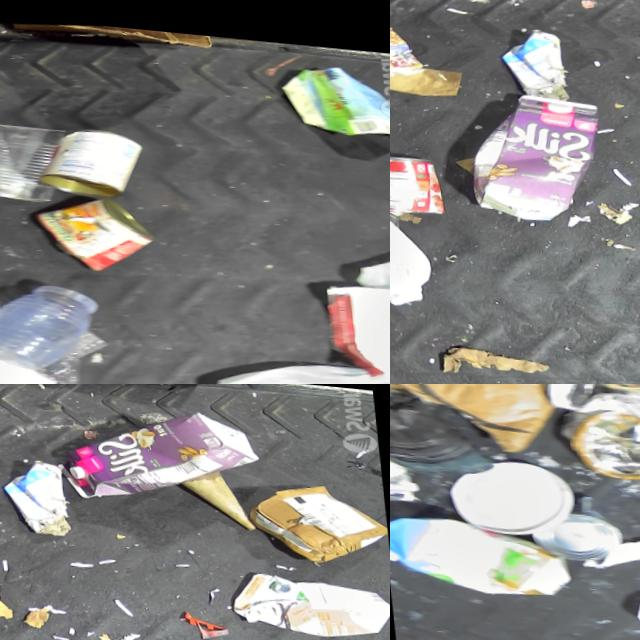can: (27, 182, 159, 274), (32, 112, 147, 200), (0, 96, 75, 212), (521, 500, 623, 564), (390, 145, 444, 216), (390, 15, 424, 88), (540, 384, 598, 409)
milk_jug: (203, 336, 390, 384), (390, 186, 432, 313), (345, 233, 390, 342)
non_white_jug: (47, 387, 264, 507), (457, 79, 607, 223), (227, 550, 390, 635)
plastic_bottle: (0, 306, 114, 384)
